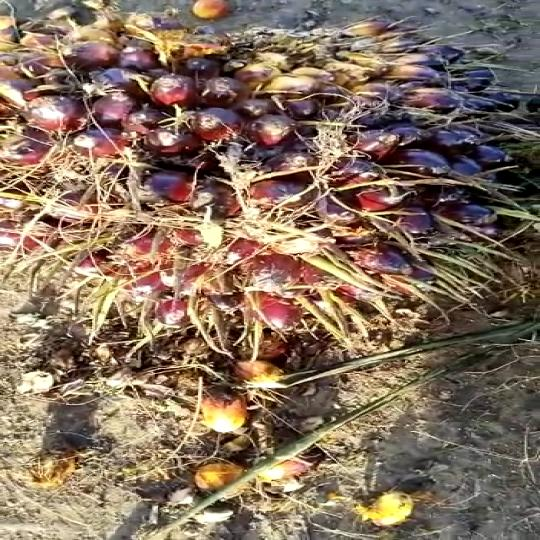mentah: (4, 26, 540, 359)
